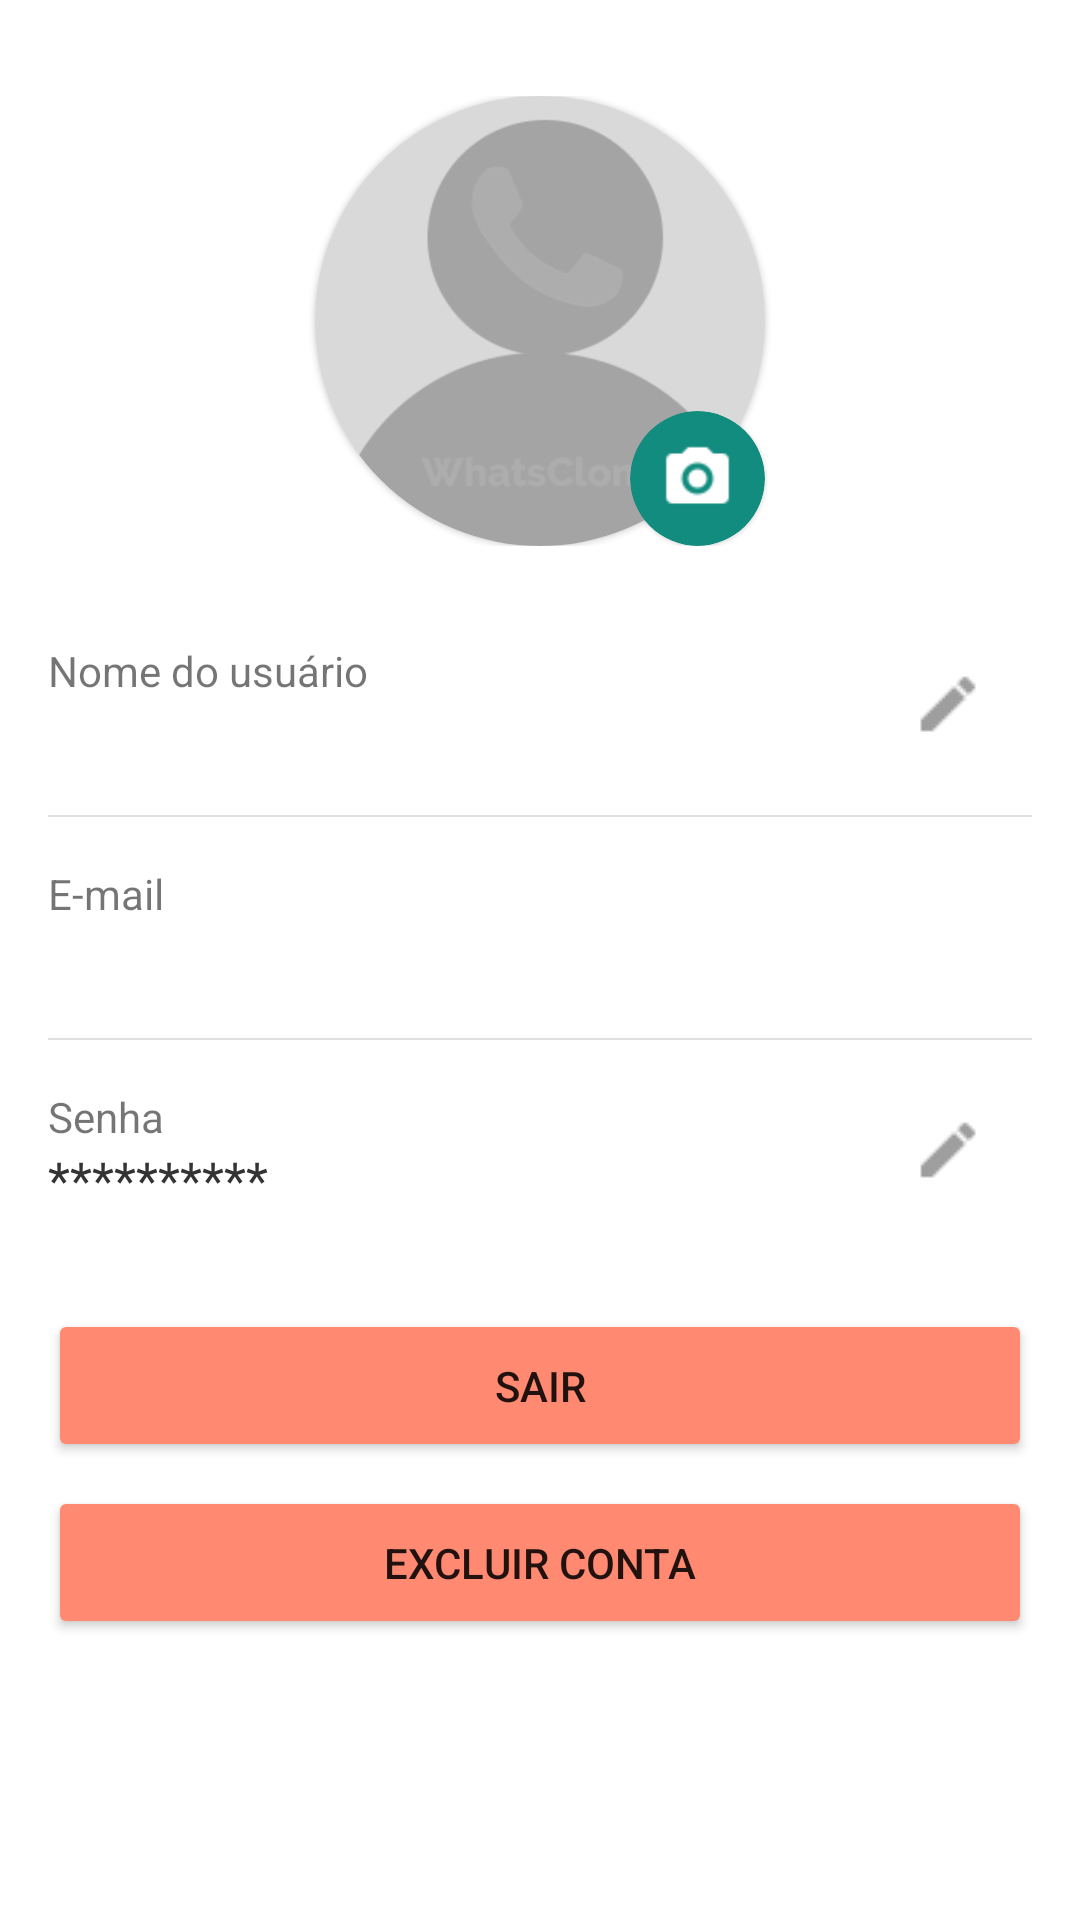

Icon bounding boxes for this 1080px×1920px phone screenshot, format (x1, y1, x2, y2):
pencil: (920, 676, 976, 732), (920, 1122, 976, 1178)
